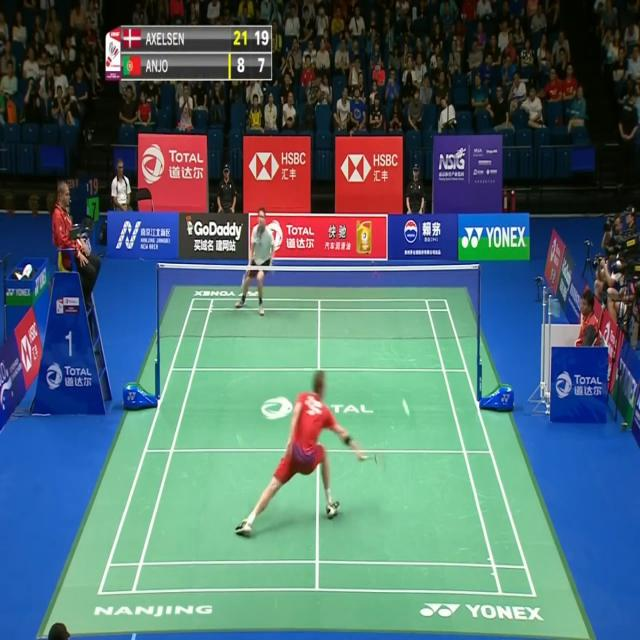Player1: (232, 358, 366, 542)
Player2: (233, 205, 280, 318)
